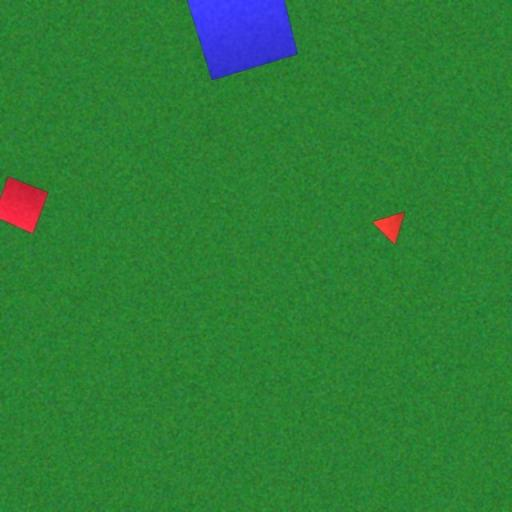BLUE_SQUARE: (184, 0, 298, 81)
RED_SQUARE: (0, 176, 49, 234)
